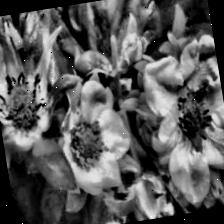Blossom Blight: (162, 76, 221, 158), (0, 65, 53, 143)
